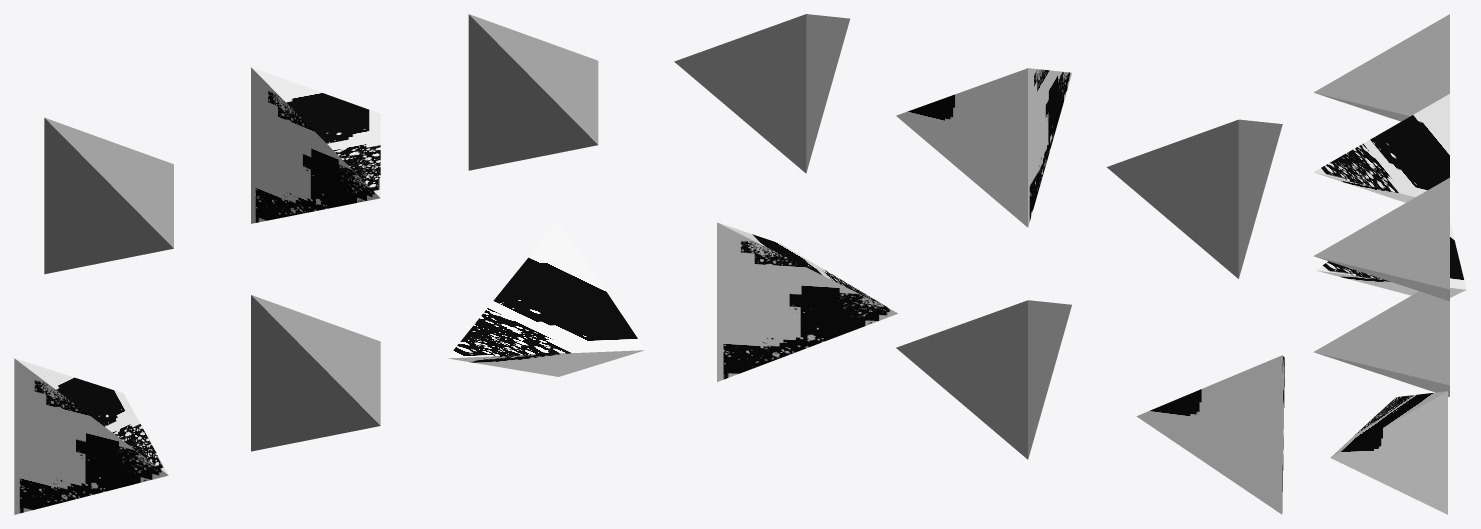
The model's file is lightTest09.fbx.
The picture shows the model from 3 angles, left to right: view 1: azimuth 30°, elevation 25°; view 2: azimuth 150°, elevation 25°; view 3: azimuth 270°, elevation 25°; orthographic projection. The views are drawn at different scales.
Visible parts, largest first — view 1: pPlatonic7, pPlatonic5, pPlatonic4, pPlatonic3, pPlatonic1, pPlatonic6; view 2: pPlatonic6, pPlatonic1, pPlatonic3, pPlatonic4, pPlatonic5, pPlatonic7; view 3: pPlatonic6, pPlatonic5, pPlatonic1, pPlatonic3, pPlatonic4, pPlatonic7.
Boxes of the visible parts, <box> form: pPlatonic7: <box>14,358,168,514</box>; pPlatonic5: <box>468,14,598,170</box>; pPlatonic4: <box>44,117,173,274</box>; pPlatonic3: <box>251,67,380,223</box>; pPlatonic1: <box>251,295,380,451</box>; pPlatonic6: <box>447,220,645,376</box>; pPlatonic6: <box>717,222,897,381</box>; pPlatonic1: <box>896,300,1071,459</box>; pPlatonic3: <box>896,68,1071,227</box>; pPlatonic4: <box>1107,119,1282,278</box>; pPlatonic5: <box>674,14,849,173</box>; pPlatonic7: <box>1136,355,1284,514</box>; pPlatonic6: <box>1330,391,1447,514</box>; pPlatonic5: <box>1313,178,1449,301</box>; pPlatonic1: <box>1313,291,1449,397</box>; pPlatonic3: <box>1314,94,1449,202</box>; pPlatonic4: <box>1313,14,1449,121</box>; pPlatonic7: <box>1316,222,1466,297</box>.
Size of what is drawn, in the model's own units: 5.91 by 3.68 by 1.68.
2 materials, 1 textured.
